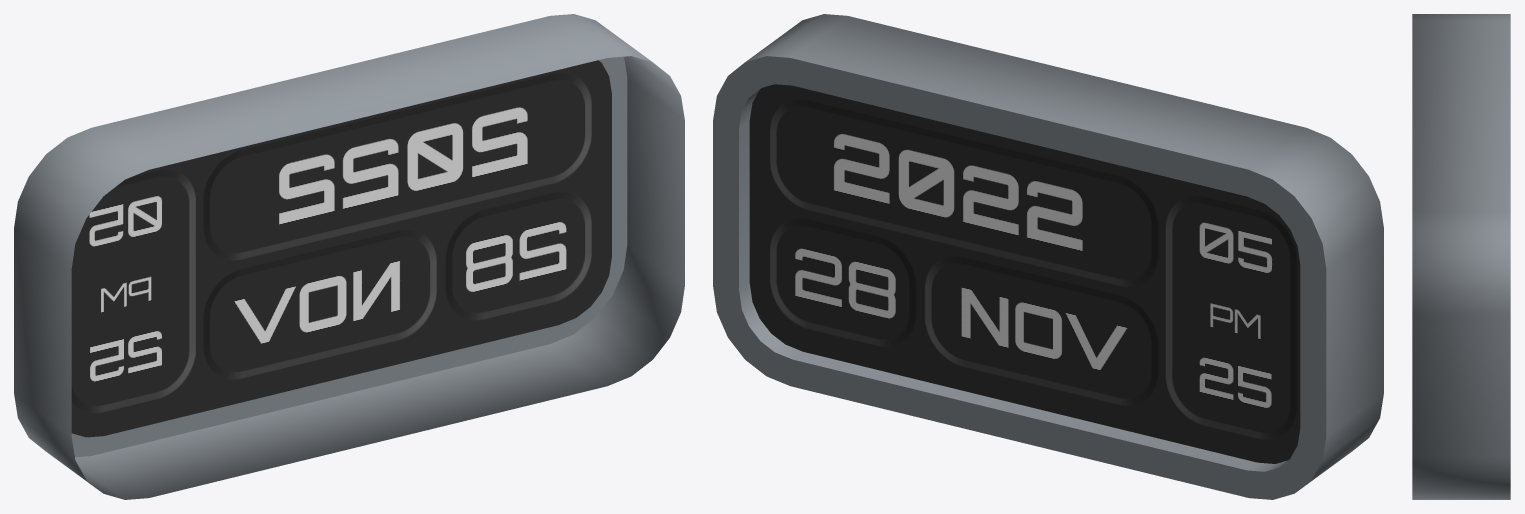
The model's file is Calender.fbx.
3 views of the same model, side by side, from view 1: azimuth 30°, elevation 25°; view 2: azimuth 150°, elevation 25°; view 3: azimuth 270°, elevation 25° (orthographic). The views are drawn at different scales.
Parts seen in each view (by area): view 1: Calender; view 2: Calender; view 3: Calender.
Part boxes in pixels (<box>): Calender: <box>14,14,684,499</box>; Calender: <box>713,14,1383,499</box>; Calender: <box>1412,14,1510,499</box>.
Bounding box in the file's own units: 79.24 × 40.53 × 12.86.
